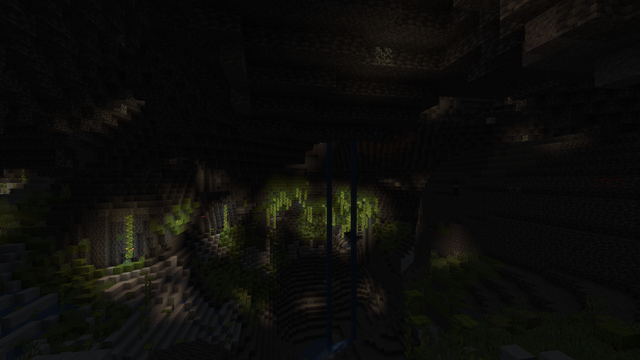sorcieres: (453, 184, 457, 196)
